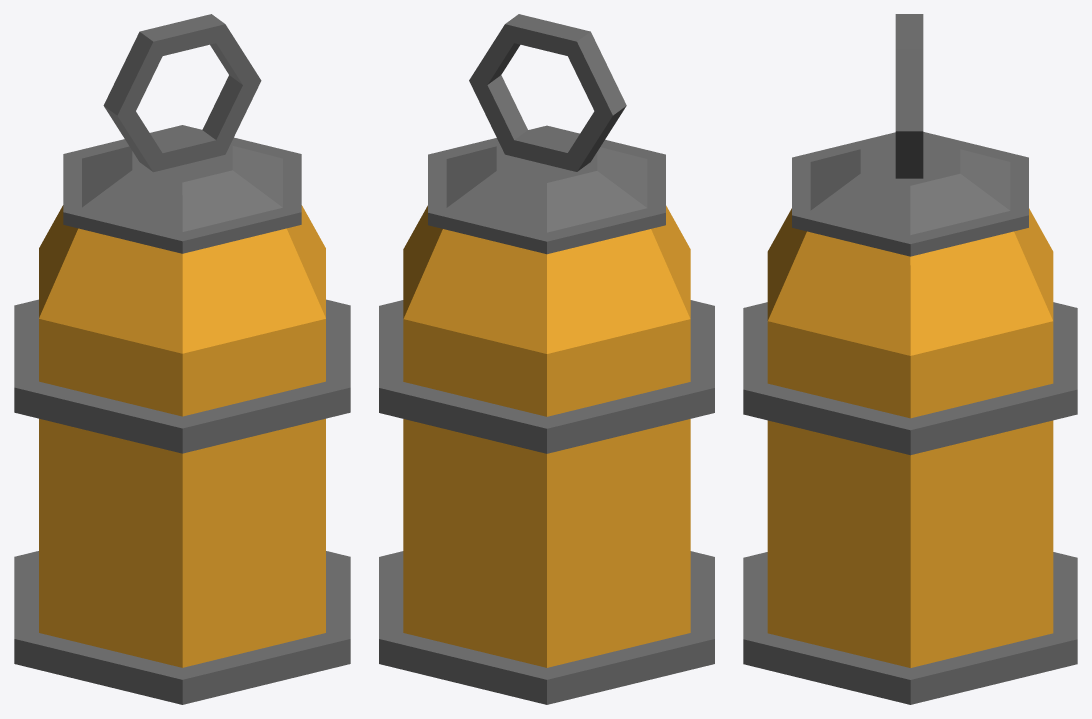
Rendered from Prop_Lantern_01.fbx.
3 renders of one model, left to right at view 1: azimuth 30°, elevation 25°; view 2: azimuth 150°, elevation 25°; view 3: azimuth 270°, elevation 25°, orthographic.
Parts seen in each view (by area): view 1: Prop_Lantern_01; view 2: Prop_Lantern_01; view 3: Prop_Lantern_01.
Part boxes in pixels (<box>): Prop_Lantern_01: <box>14,14,350,704</box>; Prop_Lantern_01: <box>379,14,714,704</box>; Prop_Lantern_01: <box>743,14,1077,704</box>.
Size of the model in its own units: 14.11 by 23.87 by 12.22.
